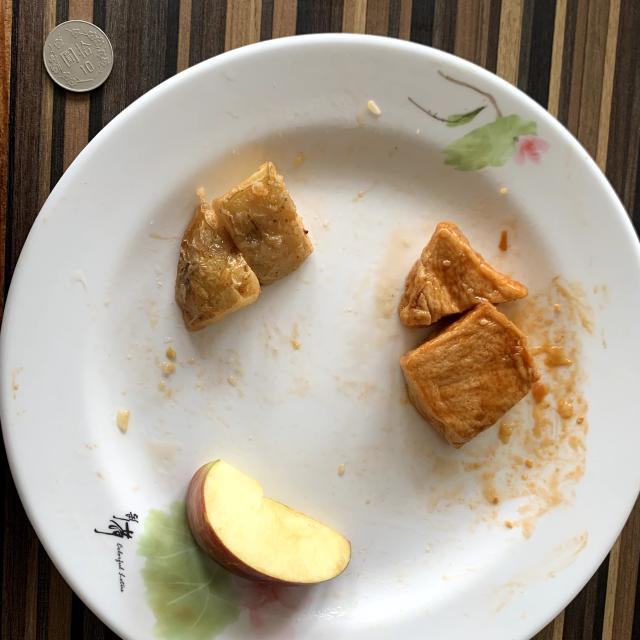apple -sliced-: (186, 460, 351, 585)
coin: (44, 20, 114, 92)
creamy tofu: (399, 221, 540, 448)
fried potato: (175, 162, 312, 330)
